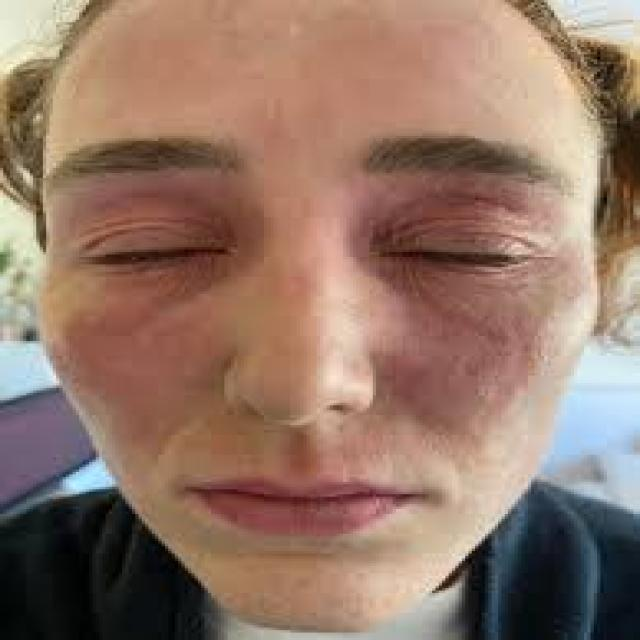Eczema: (368, 170, 538, 436), (67, 176, 226, 407)
